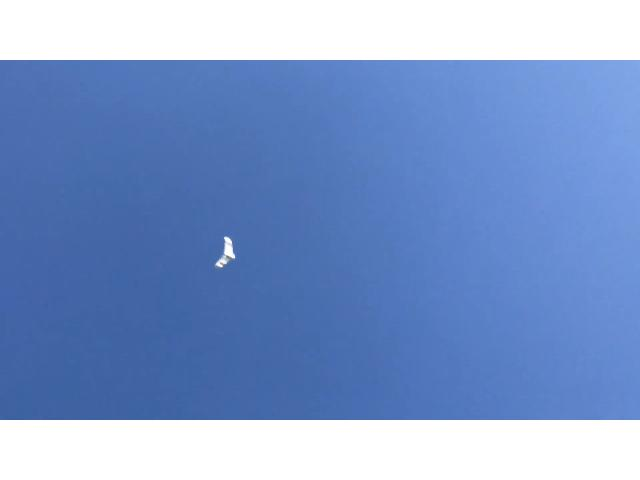Anti-Drone: (210, 232, 252, 278)
